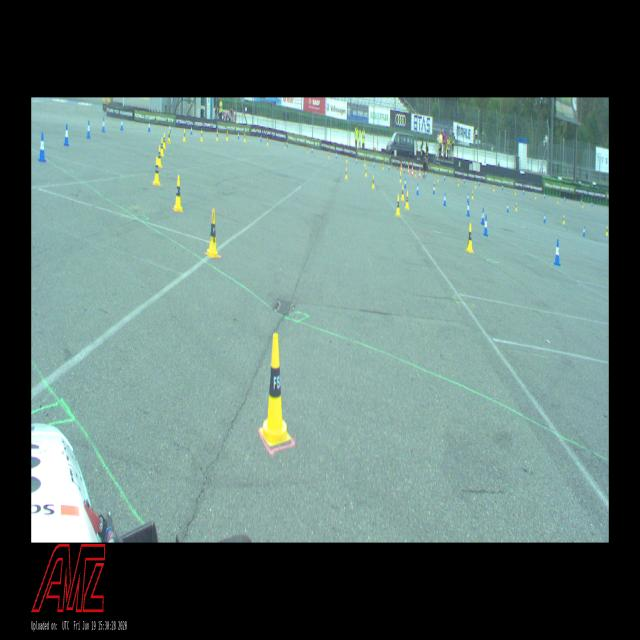blue_cone: (38, 132, 46, 162), (554, 239, 560, 266), (64, 124, 69, 146), (483, 215, 488, 236), (86, 120, 91, 138), (480, 207, 484, 225), (466, 201, 470, 216), (120, 117, 124, 130), (102, 118, 105, 132), (443, 192, 446, 205), (416, 183, 419, 195), (148, 121, 151, 132), (543, 213, 546, 222), (404, 177, 406, 188), (583, 226, 585, 237), (433, 184, 435, 194), (466, 193, 468, 202), (506, 203, 508, 212), (170, 124, 172, 133), (190, 126, 192, 134), (260, 134, 262, 142), (238, 132, 239, 139), (544, 192, 545, 198)
large_orange_cone: (418, 167, 421, 178), (407, 163, 409, 174), (412, 165, 414, 176), (400, 162, 402, 172)
yellow_cone: (260, 334, 291, 446), (205, 209, 220, 257), (173, 174, 183, 212), (466, 222, 474, 252), (154, 157, 160, 186), (158, 145, 162, 168), (396, 194, 400, 216), (405, 192, 409, 210), (161, 137, 164, 157), (167, 129, 171, 144), (163, 133, 166, 149), (401, 185, 404, 200), (372, 175, 375, 188), (183, 129, 186, 142), (399, 170, 402, 182), (200, 130, 203, 142), (562, 214, 565, 224), (346, 167, 348, 179), (226, 130, 228, 141), (216, 130, 218, 141), (365, 167, 367, 177), (606, 226, 608, 236), (515, 202, 517, 211), (328, 150, 330, 159), (472, 190, 474, 199), (244, 133, 246, 142), (266, 137, 268, 145), (382, 162, 384, 170), (534, 193, 536, 200)
